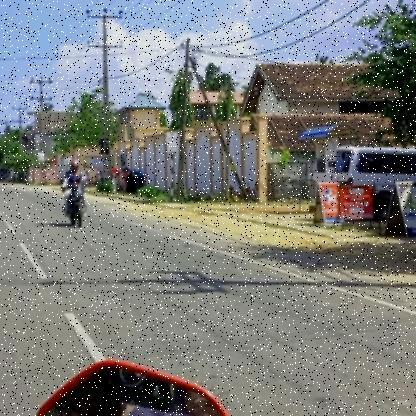motorcycle: (57, 182, 96, 228)
